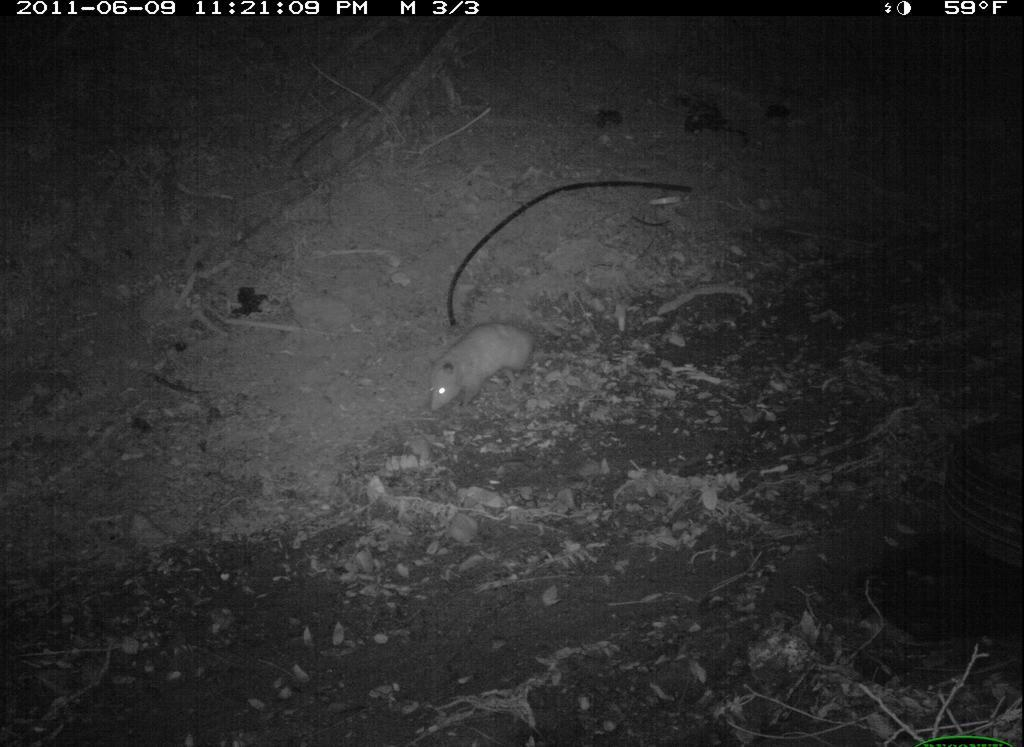opossum: (417, 314, 577, 420)
